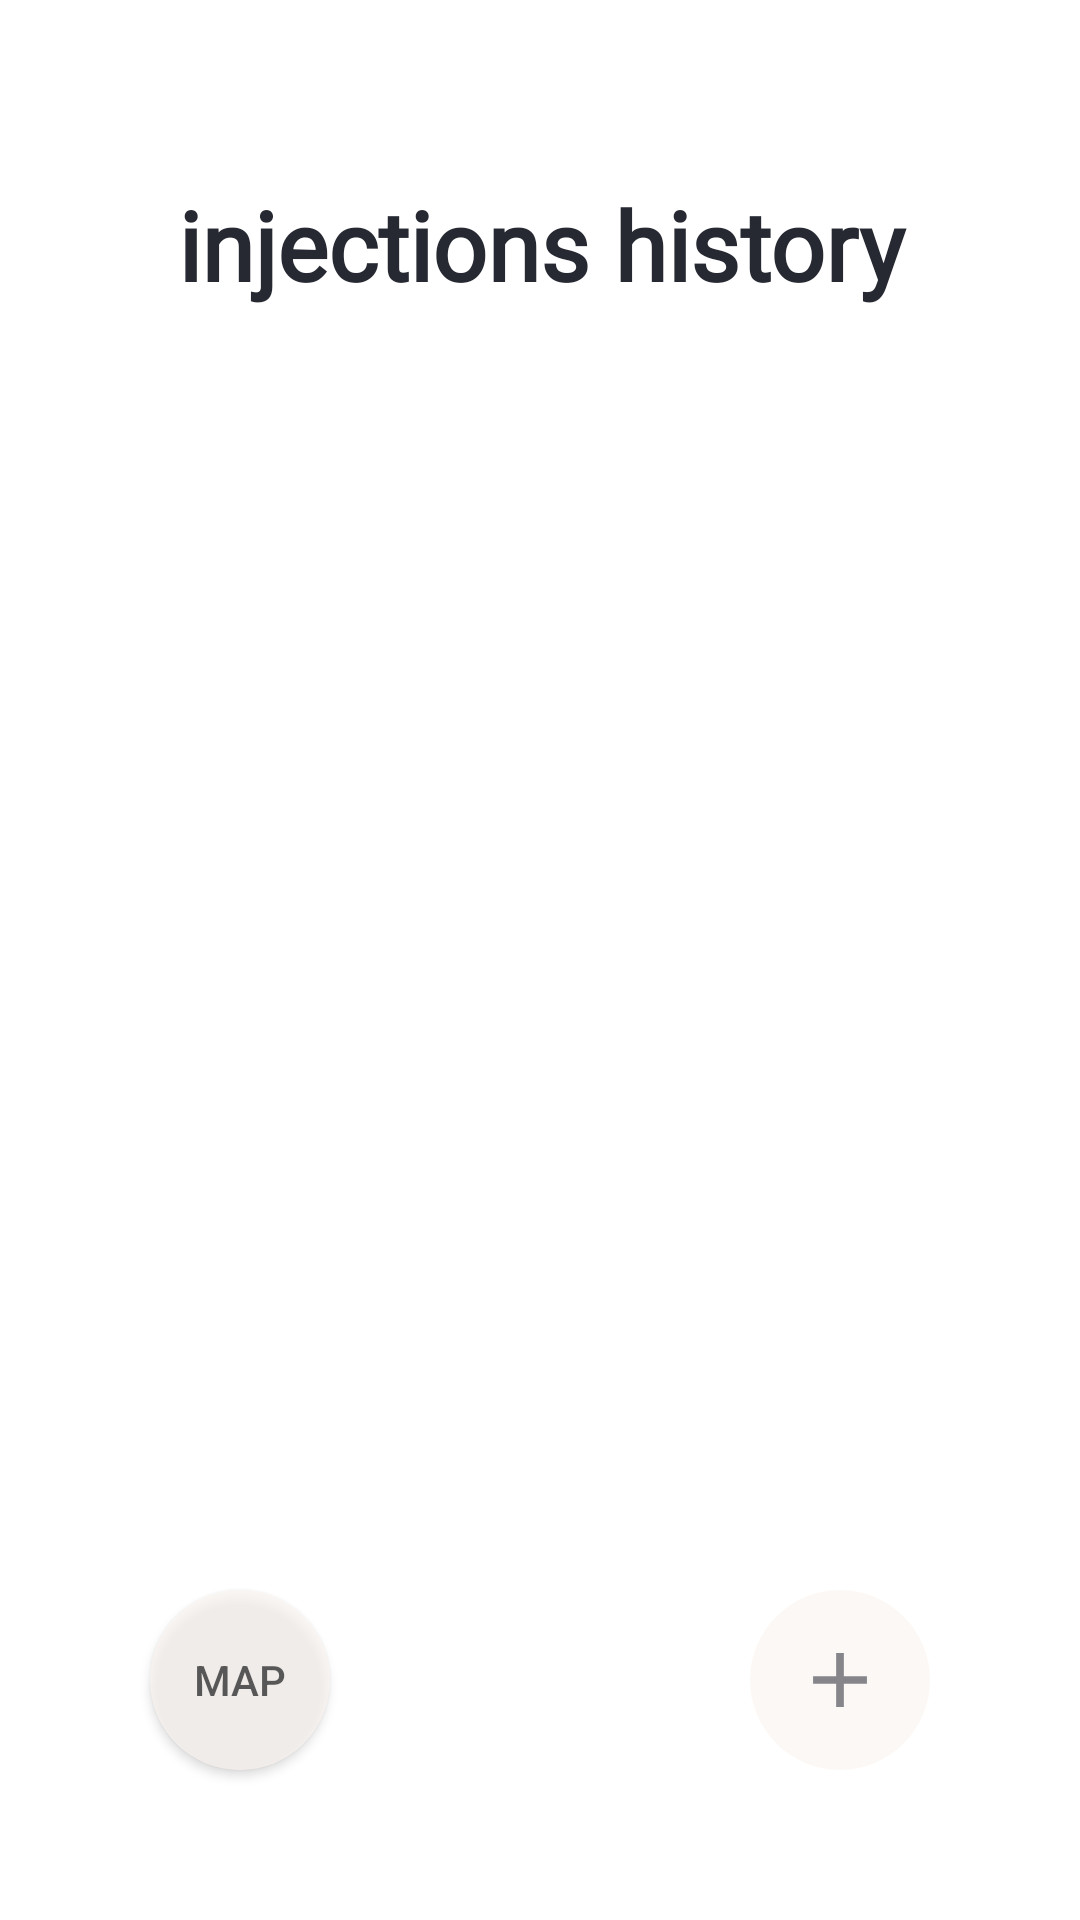

Point at icon controls on the screen. Image size 1080w x 1920h, points as (x,y).
plus: (840,1680)
